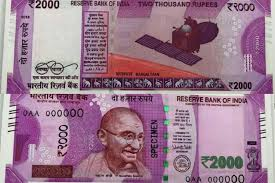twoThousand: (23, 104, 259, 175)
